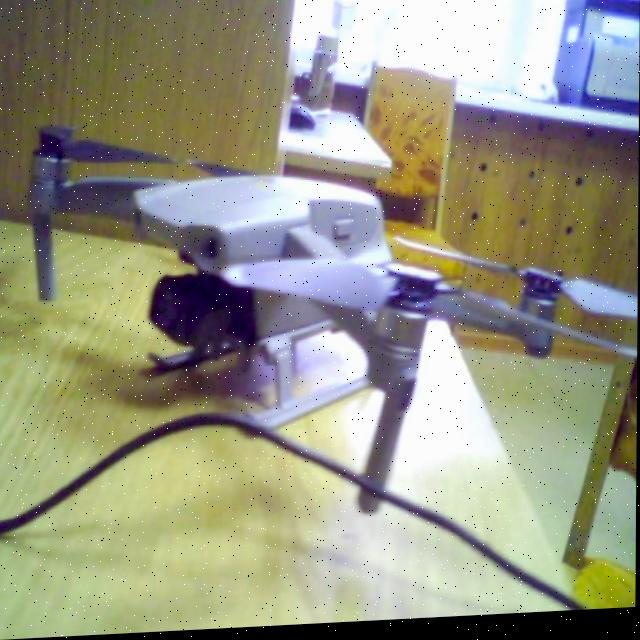drone: (0, 98, 631, 524)
